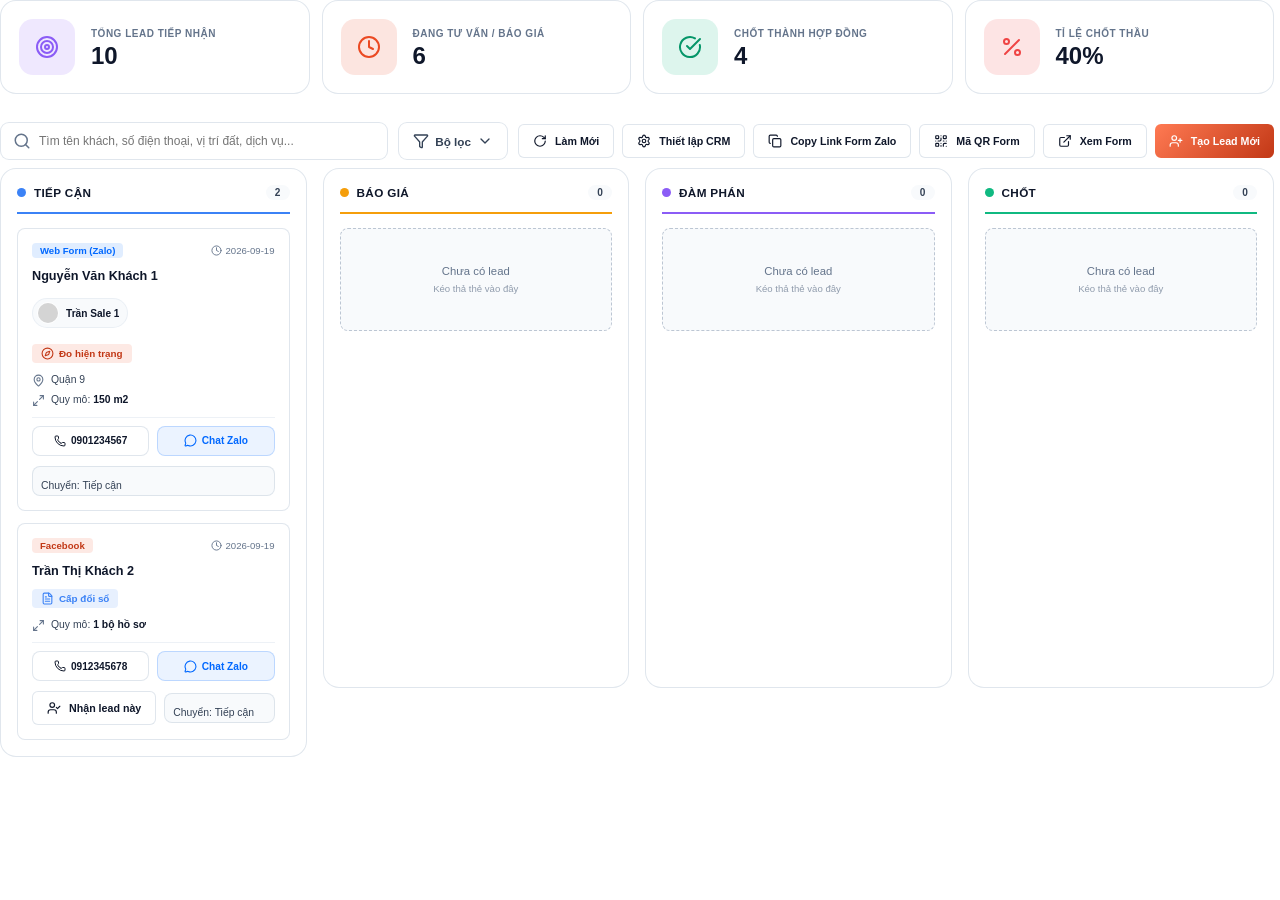
Test: CRM Component — Sales and Director views › renders Director view with owner badge, avatar, and Settings modal
The image size is (1280, 900).
Expected: the text "Trần Sale 1" is shown, [66,308,120,319]
# Opens settings modal
Click the button "Thiết lập CRM" at (684,141), box [622,124,745,158]
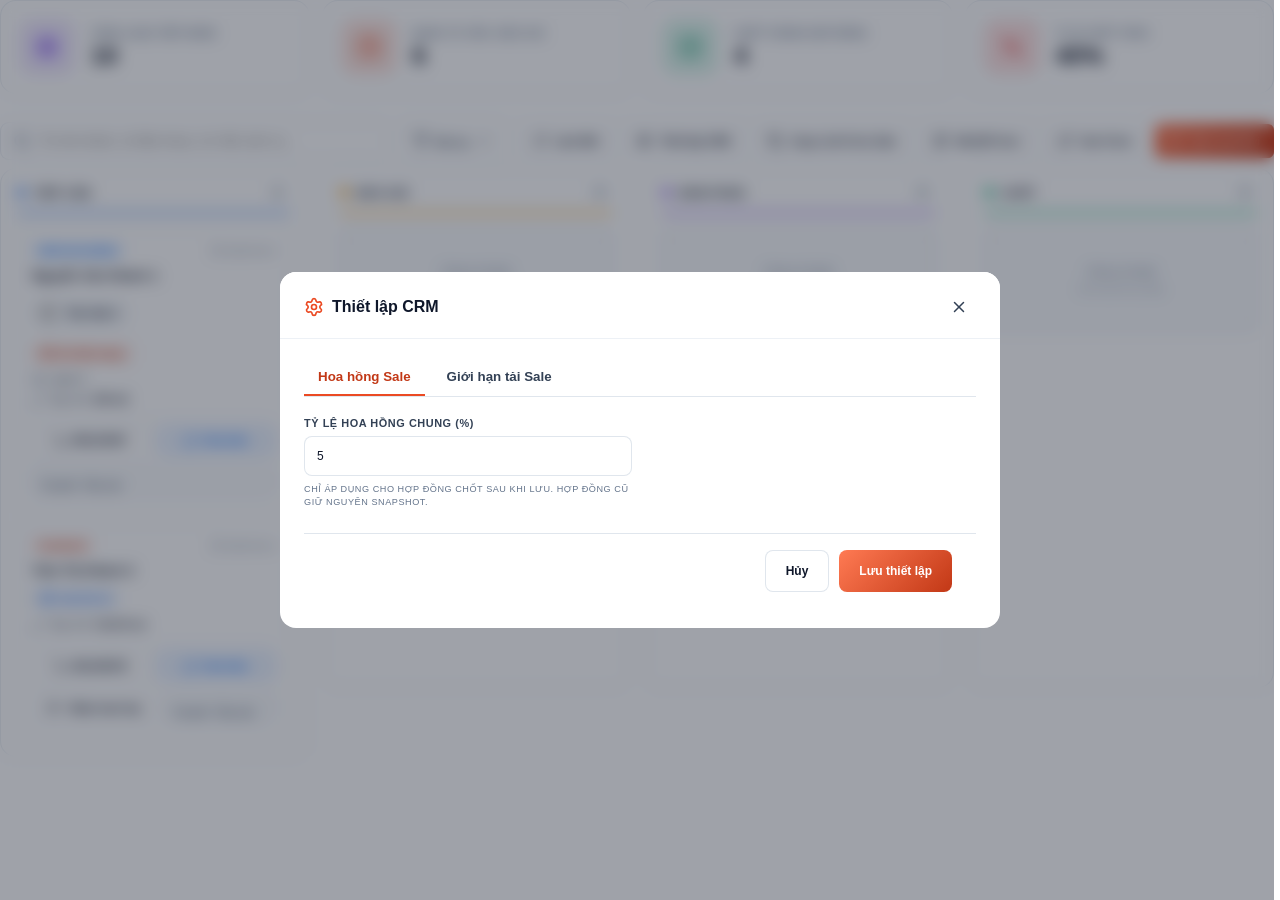
Now the button "Hoa hồng Sale" is shown, box [304,359,425,396]
Now the button "Giới hạn tải Sale" is shown, box [433,359,566,396]
